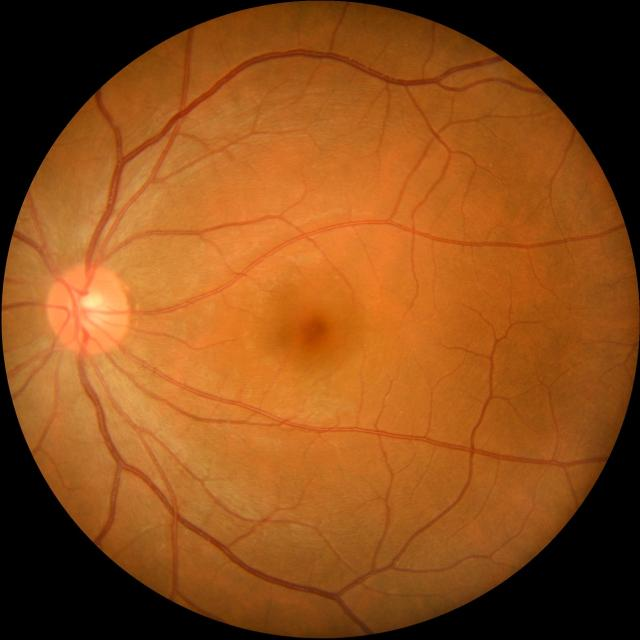OC: (75, 291, 105, 328)
OD: (46, 262, 130, 356)
